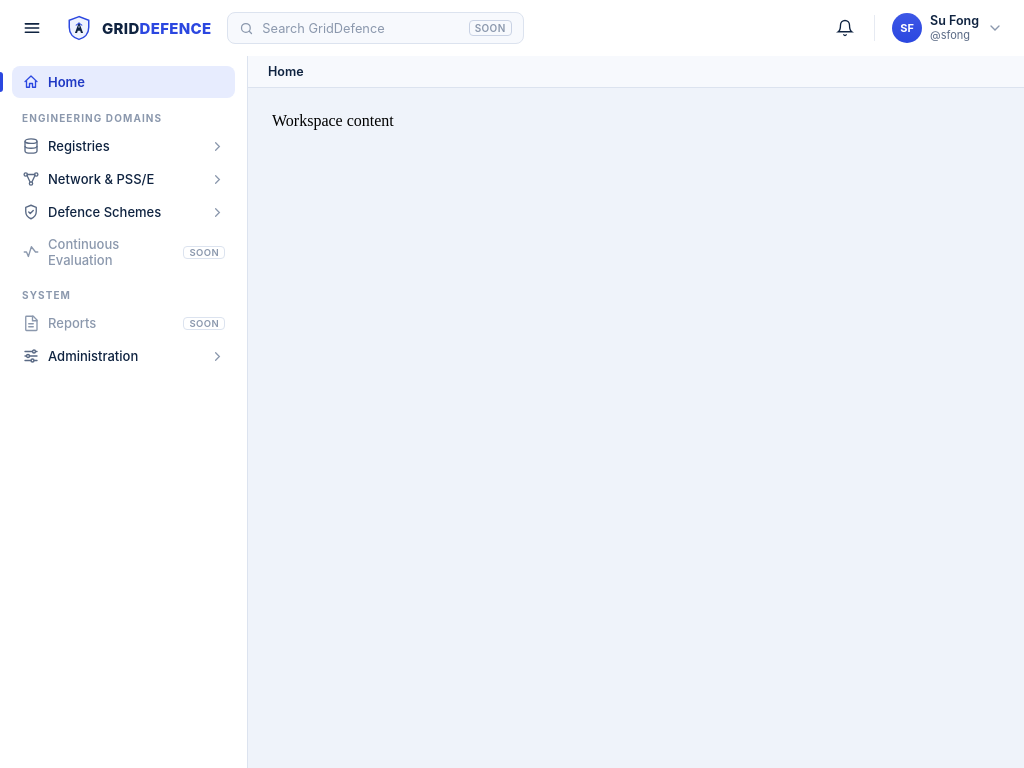
it: Application Shell V2 › presents search and notifications as placeholders, not live engineering data
Click the button named "Notifications — none yet".
click(845, 28)  # box [828, 11, 862, 45]
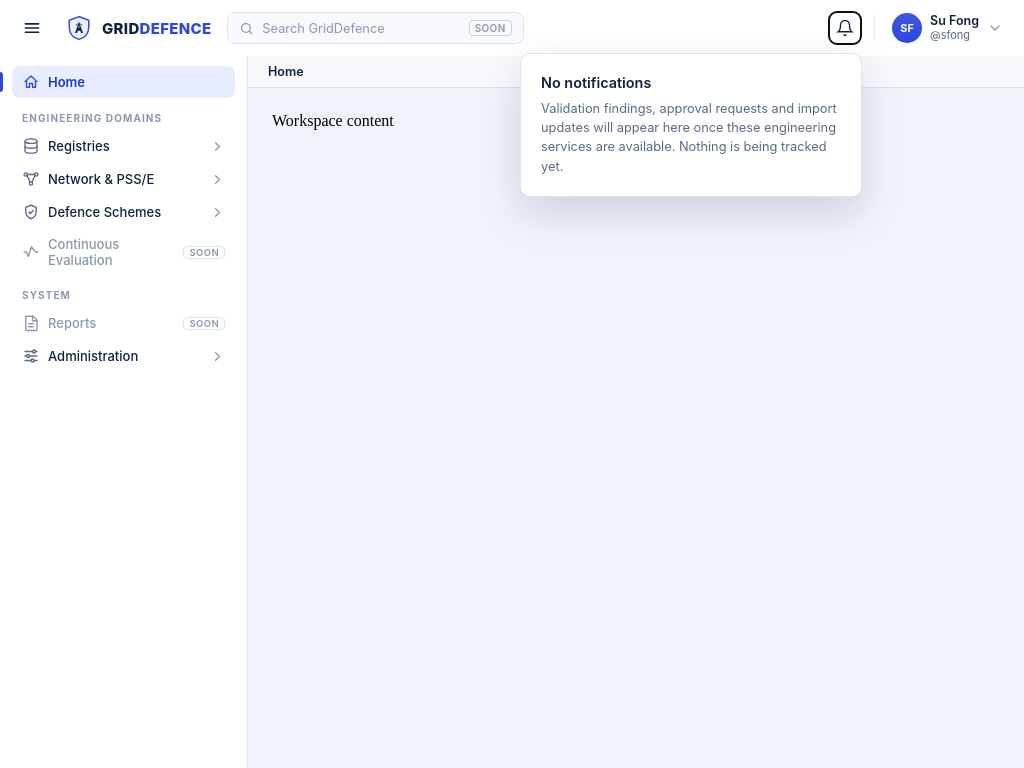
Expected: the text "No notifications" is shown, [541, 74, 651, 91]
